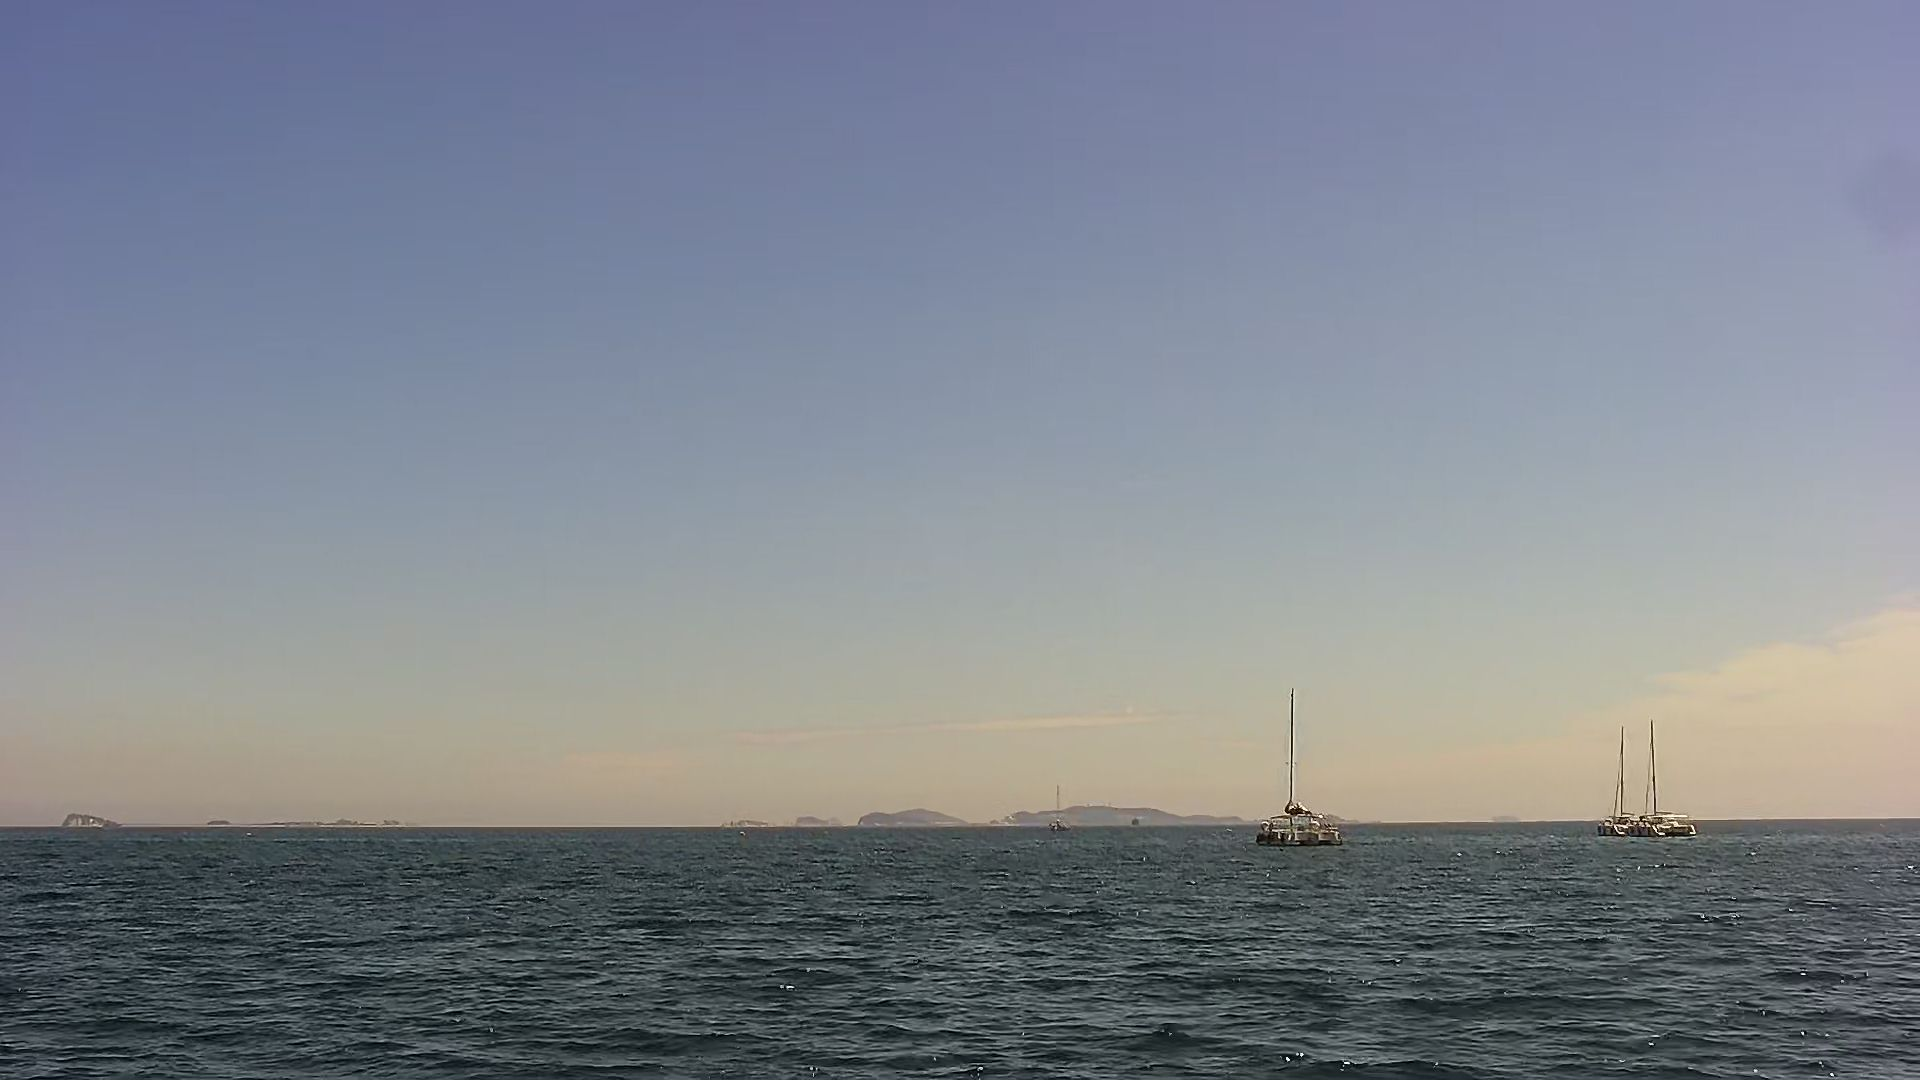boat: (1236, 680, 1375, 862), (1633, 708, 1721, 856), (1593, 713, 1644, 840)
rock: (1004, 806, 1254, 828), (262, 811, 425, 827), (860, 810, 978, 831), (51, 807, 133, 827), (199, 804, 243, 829), (787, 814, 840, 831), (713, 814, 775, 828)
